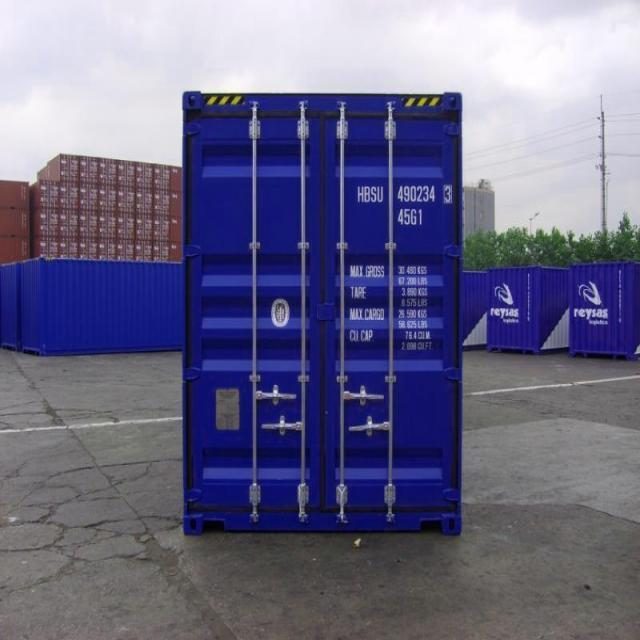ISO: (398, 208, 426, 226)
container_number: (356, 185, 454, 204)
